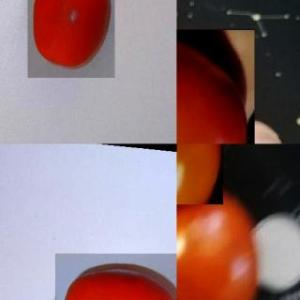tomato: (176, 190, 260, 300), (178, 30, 254, 144), (28, 1, 116, 77), (56, 253, 176, 299)
